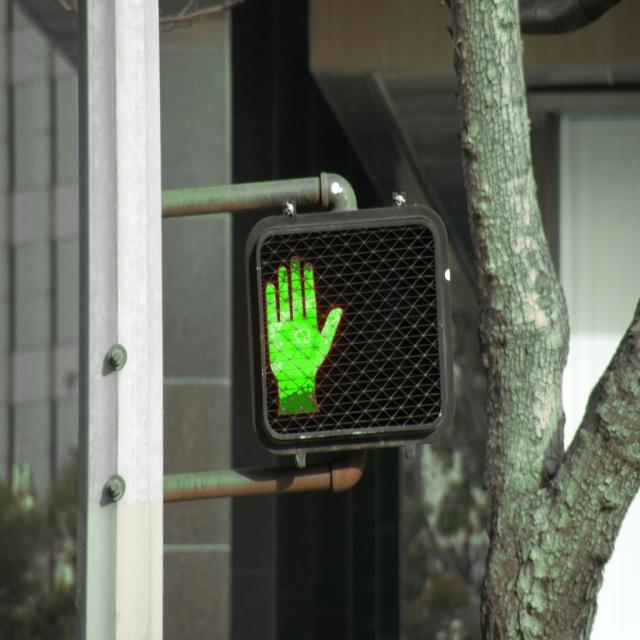traffic light: (244, 194, 450, 466)
